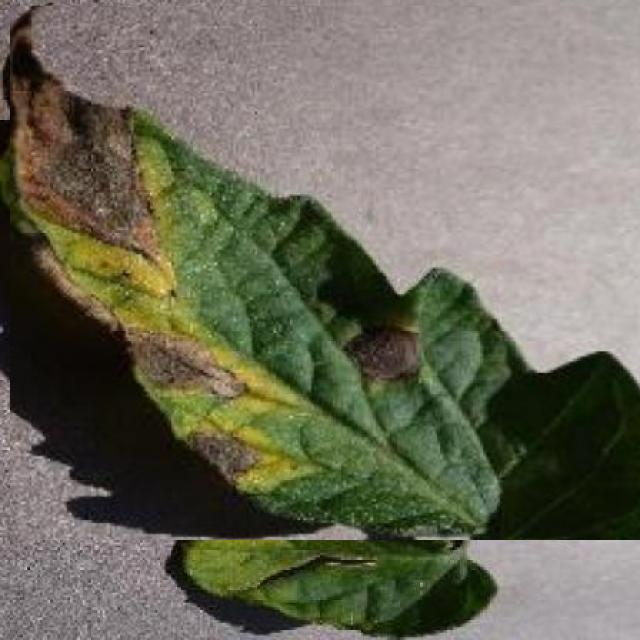Early Blight: (10, 6, 640, 540)
